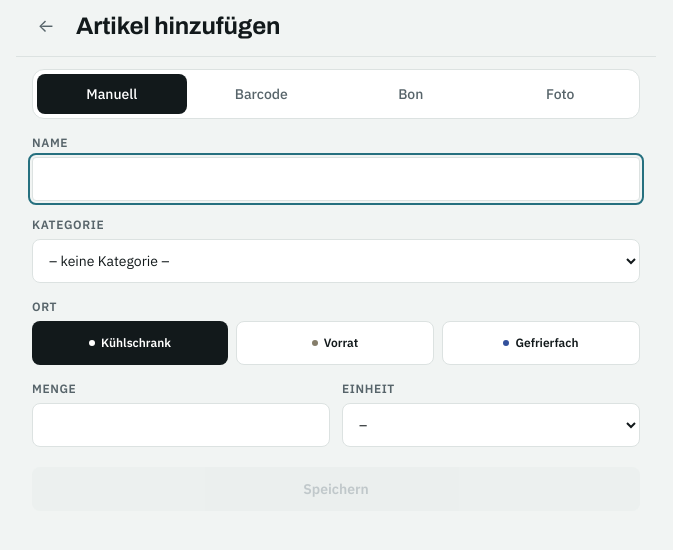
it: AddItem — barcode scan › shows an unmapped category as a hint instead of guessing wrong
The width and height of the screenshot is (673, 550).
Click the tab "Barcode" at (261, 94), box [186,74,336,114]
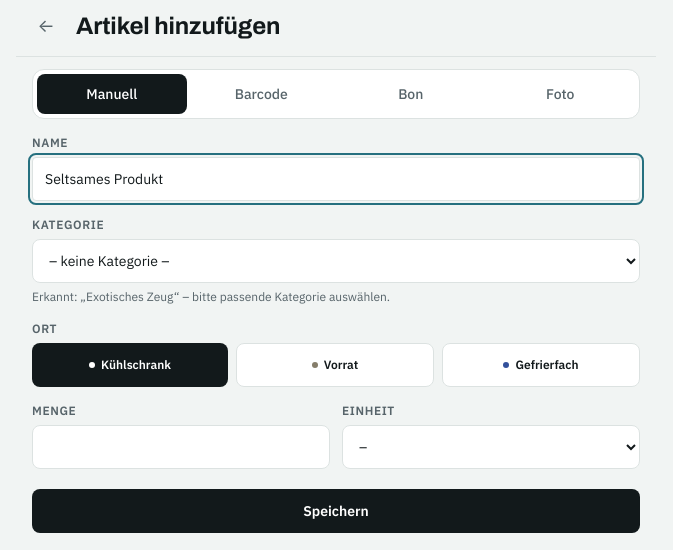
Check: the dropdown labelled "Kategorie" shows "– keine Kategorie –", box [32,239,640,283]
Check: the text "Exotisches Zeug" is shown, box [86,289,174,304]
